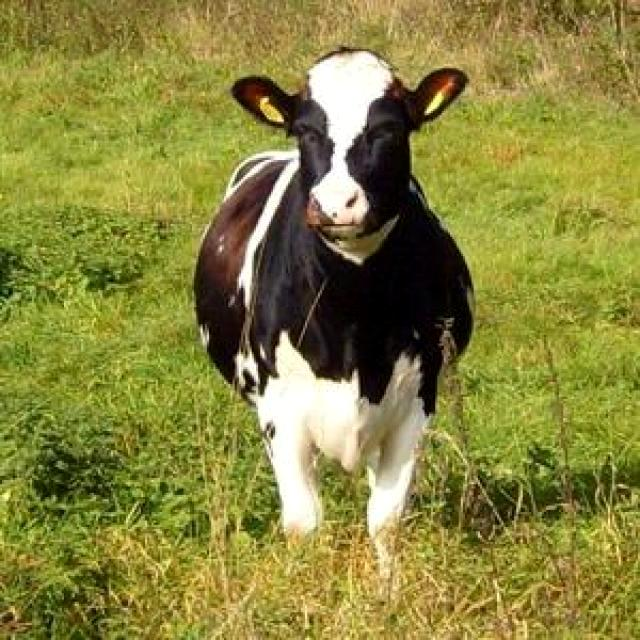COW: (195, 48, 472, 577)
